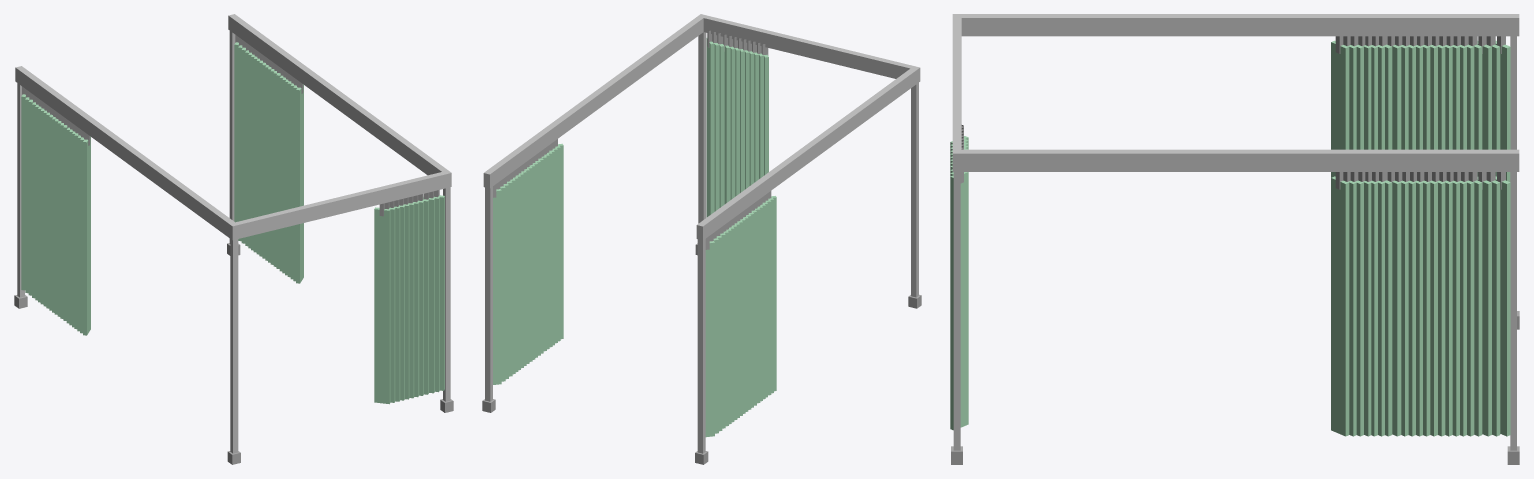
The model's file is screen.fbx.
3 views of the same model, side by side, from view 1: azimuth 30°, elevation 25°; view 2: azimuth 150°, elevation 25°; view 3: azimuth 270°, elevation 25° (orthographic). The views are drawn at different scales.
Visible parts, largest first — view 1: Null; view 2: Null; view 3: Null.
Boxes of the visible parts, x1,y1,x2,y2 form: Null: [14, 14, 453, 464]; Null: [482, 14, 921, 464]; Null: [950, 14, 1519, 464].
Size of the model in its own units: 79.3 by 80.04 by 133.
